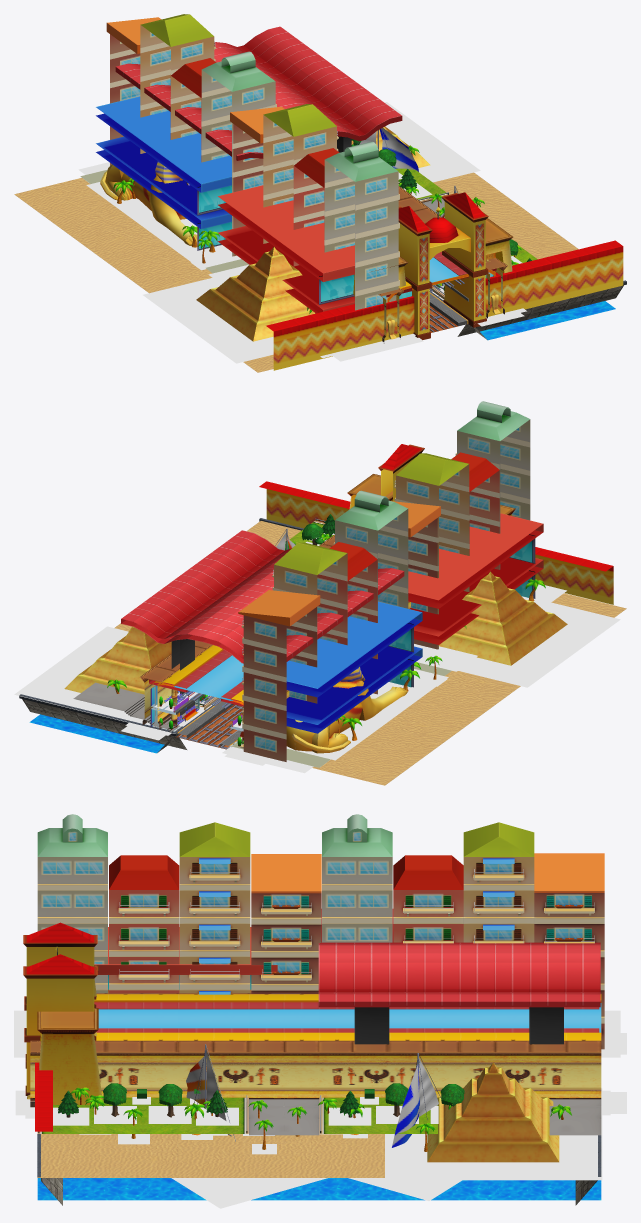
Rendered from TerrainC.FBX.
The picture shows the model from 3 angles, top to bottom: view 1: azimuth 30°, elevation 25°; view 2: azimuth 150°, elevation 25°; view 3: azimuth 270°, elevation 25°; orthographic projection. The views are drawn at different scales.
Parts seen in each view (by area): view 1: Building, Store, ArchWall, Pyramid, Station01, BaseRoad, RightSide, StartSea, Sphinx, EgyptWall01, Park, EgyptWall02 (+2 smaller); view 2: Building, Store, Pyramid, Station01, BaseRoad, ArchWall, Station02, Sphinx, EgyptWall01, Park, EndSea, StartSea (+2 smaller); view 3: Building, EgyptWall01, Station01, Park, Pyramid, Station02, RightSide, EgyptWall02, StartSea, ArchWall, SeaBoat01, Store (+3 smaller).
Part boxes in pixels (box(x1,y1,x2,y2)): Building: box(78, 14, 423, 361); Store: box(80, 96, 415, 358); ArchWall: box(266, 192, 623, 370); Pyramid: box(143, 102, 480, 363); Station01: box(115, 26, 496, 299); BaseRoad: box(14, 178, 464, 372); RightSide: box(433, 172, 578, 259); StartSea: box(430, 280, 626, 340); Sphinx: box(88, 161, 197, 245); EgyptWall01: box(353, 186, 526, 339); Park: box(351, 139, 537, 299); EgyptWall02: box(378, 258, 524, 343); Building: box(222, 401, 530, 773); Store: box(231, 513, 566, 767); Pyramid: box(14, 571, 620, 733); Station01: box(121, 530, 404, 746); BaseRoad: box(176, 593, 626, 785); ArchWall: box(259, 444, 613, 604); Station02: box(150, 645, 243, 747); Sphinx: box(286, 667, 407, 763); EgyptWall01: box(121, 474, 515, 765); Park: box(73, 514, 334, 731); EndSea: box(19, 694, 186, 749); StartSea: box(29, 518, 303, 753); Building: box(14, 814, 620, 1057); EgyptWall01: box(25, 965, 626, 1118); Station01: box(94, 909, 600, 1044); Park: box(37, 1083, 601, 1135); Pyramid: box(385, 1062, 602, 1180); Station02: box(94, 994, 601, 1040); RightSide: box(37, 1134, 384, 1177); EgyptWall02: box(15, 1040, 610, 1115); StartSea: box(37, 1134, 601, 1205); ArchWall: box(23, 922, 97, 1131); SeaBoat01: box(171, 1044, 461, 1208); Store: box(94, 927, 277, 989).
Bounding box in the file's own units: 18219 × 9545 × 21742.
